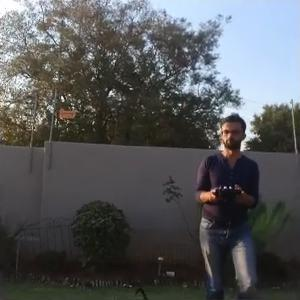follow: (192, 109, 263, 298)
